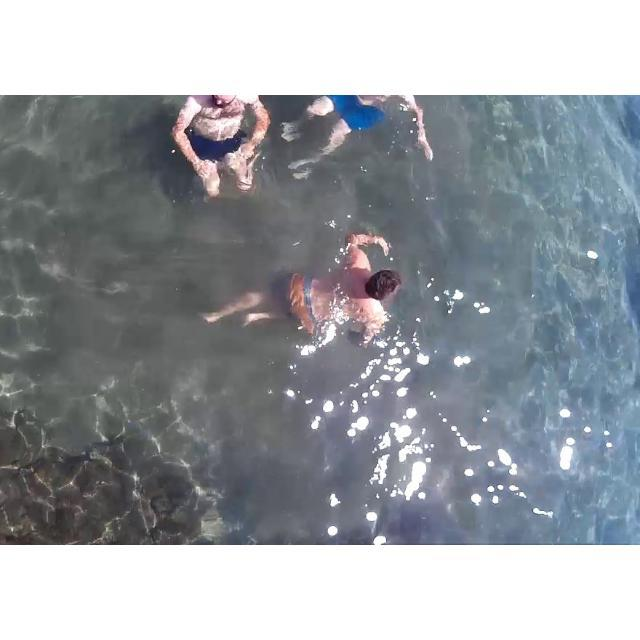human: (220, 243, 424, 362), (162, 95, 276, 210), (299, 95, 443, 172)
